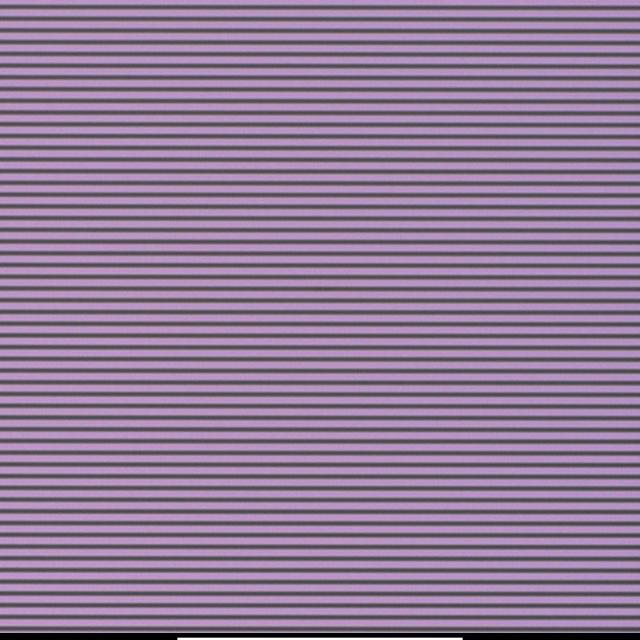03_intrusion: (322, 283, 328, 292)
